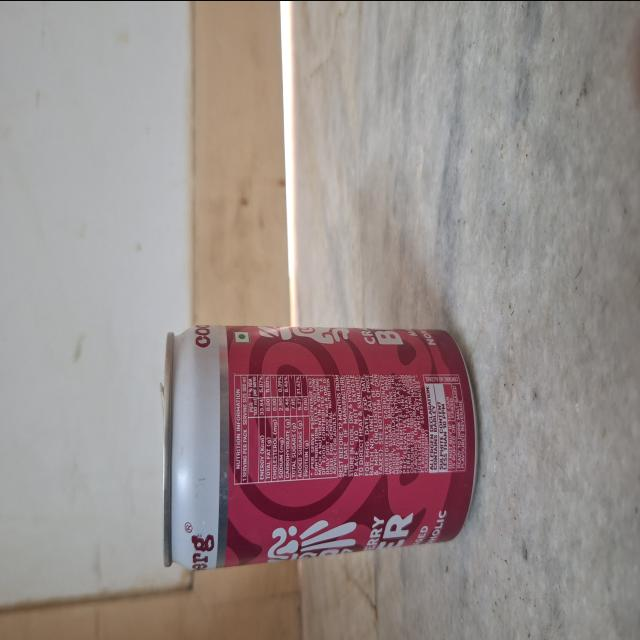Coolberg: (155, 288, 483, 592)
